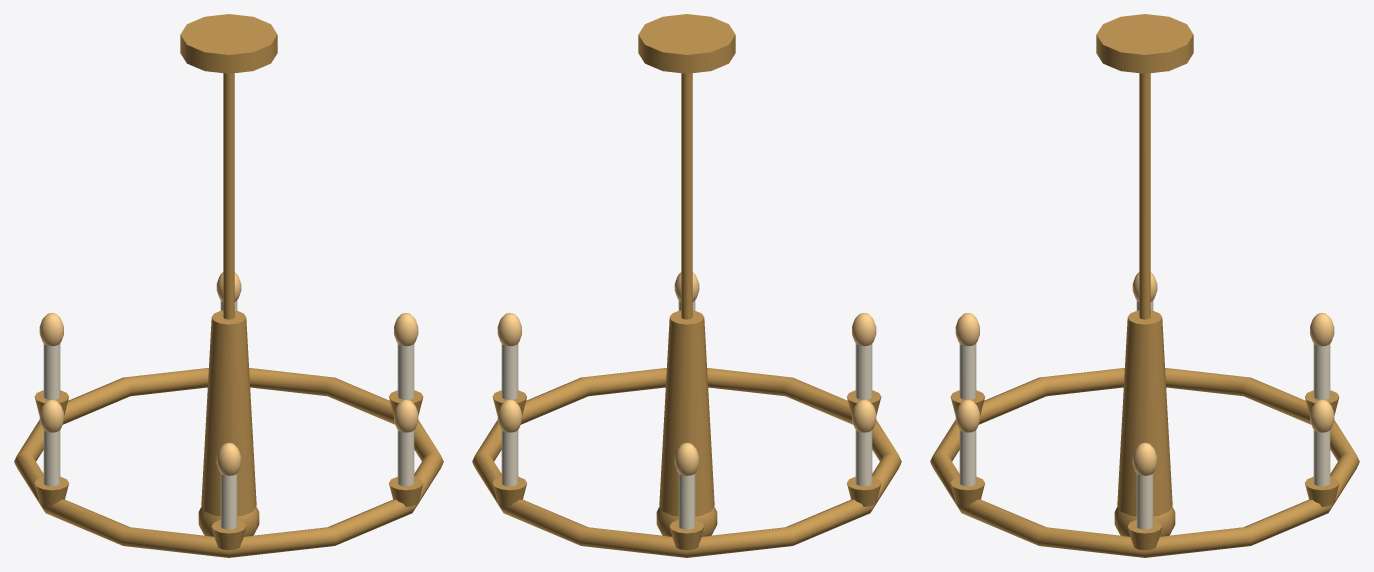
The model's file is chandelier.glb.
3 renders of one model, left to right at view 1: azimuth 30°, elevation 25°; view 2: azimuth 150°, elevation 25°; view 3: azimuth 270°, elevation 25°, orthographic.
Parts seen in each view (by area): view 1: Part4, Part2, Part0, Part1, Part9, Part15, Part12, Part6, Part18, Part3, Part11, Part13 (+6 smaller); view 2: Part4, Part2, Part0, Part1, Part15, Part21, Part18, Part6, Part12, Part3, Part17, Part19 (+6 smaller); view 3: Part4, Part2, Part0, Part1, Part9, Part21, Part6, Part12, Part18, Part3, Part5, Part7 (+6 smaller).
Boxes of the visible parts, <box> form: Part4: <box>14,368,443,557</box>; Part2: <box>201,310,256,516</box>; Part0: <box>180,14,277,73</box>; Part1: <box>223,73,234,319</box>; Part9: <box>397,430,414,486</box>; Part15: <box>43,430,60,486</box>; Part12: <box>220,473,237,529</box>; Part6: <box>397,343,414,399</box>; Part18: <box>43,343,60,399</box>; Part3: <box>198,506,259,536</box>; Part11: <box>211,520,246,550</box>; Part13: <box>216,442,241,475</box>; Part4: <box>472,368,901,557</box>; Part2: <box>659,310,714,516</box>; Part0: <box>638,14,735,73</box>; Part1: <box>681,73,692,319</box>; Part15: <box>855,430,872,486</box>; Part21: <box>501,430,518,486</box>; Part18: <box>678,473,695,529</box>; Part6: <box>501,343,518,399</box>; Part12: <box>855,343,872,399</box>; Part3: <box>656,506,717,536</box>; Part17: <box>669,520,704,550</box>; Part19: <box>674,442,699,475</box>; Part4: <box>930,368,1359,557</box>; Part2: <box>1117,310,1172,516</box>; Part0: <box>1096,14,1193,73</box>; Part1: <box>1139,73,1150,319</box>; Part9: <box>959,430,976,486</box>; Part21: <box>1313,430,1330,486</box>; Part6: <box>1136,473,1153,529</box>; Part12: <box>959,343,976,399</box>; Part18: <box>1313,343,1330,399</box>; Part3: <box>1114,506,1175,536</box>; Part5: <box>1127,520,1162,550</box>; Part7: <box>1132,442,1157,475</box>.
Size of the model in its own units: 0.64 by 0.815 by 0.62.
